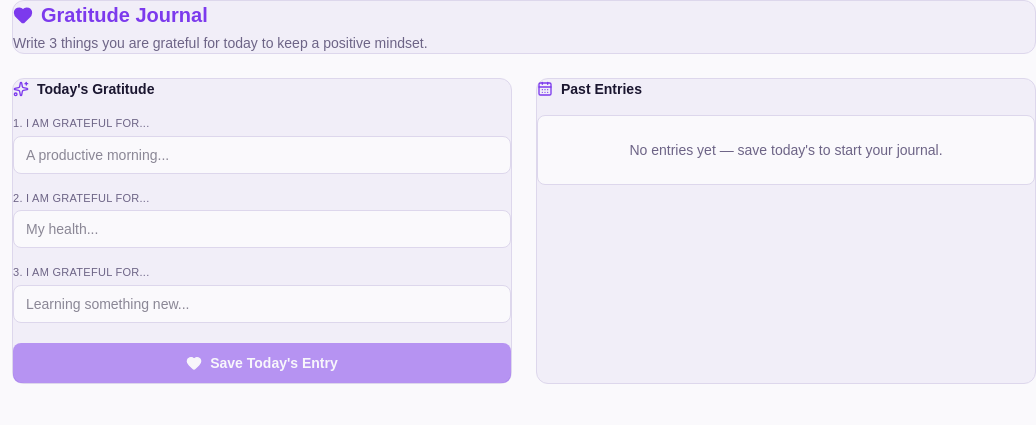
Scenario: saving › saves the three items, confirms, and refreshes the entry list
Expected: the text "No entries yet — save today's to start your journal." is shown, 537,115 -> 1035,185
In the field with placeholder "A productive morning...": x=262, y=154 13,136 -> 511,174, type "one"
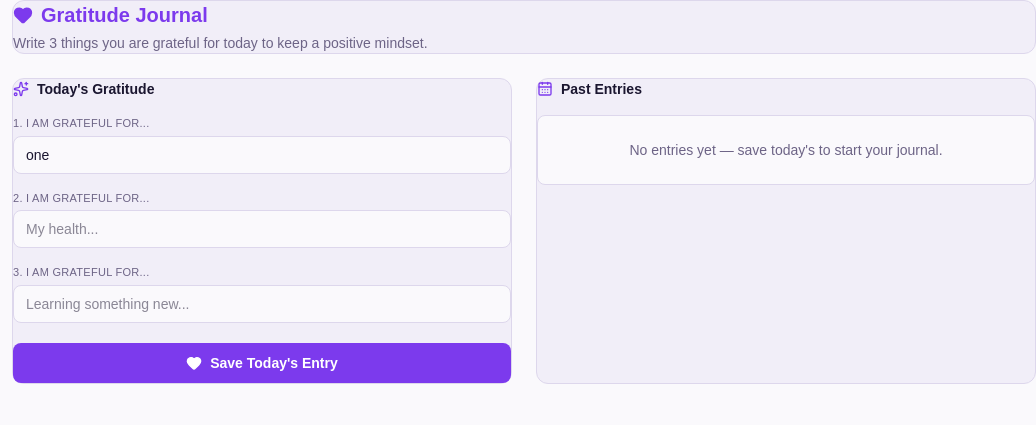
In the field with placeholder "My health...": x=262, y=229 13,210 -> 511,248, type "two"
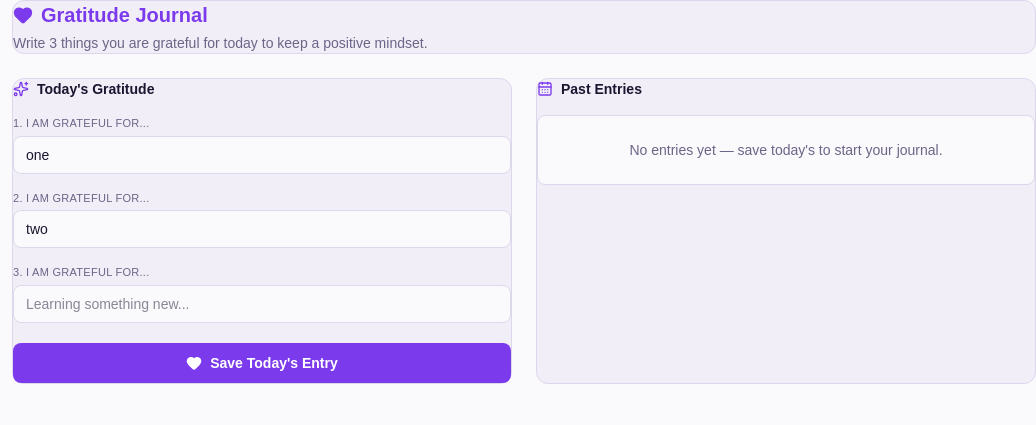
Click the button "Save Today's Entry": x=262, y=362 13,342 -> 511,382
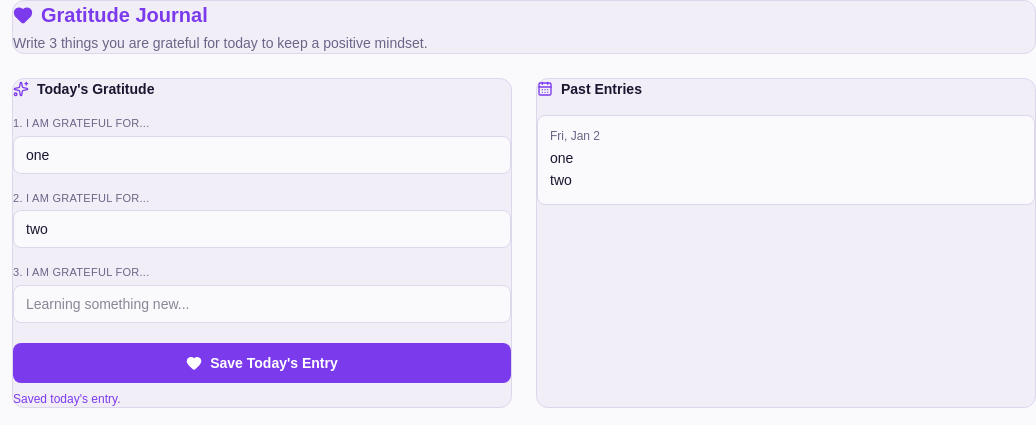
Result: the text "Saved today's entry." is shown at 13,392 -> 120,406
